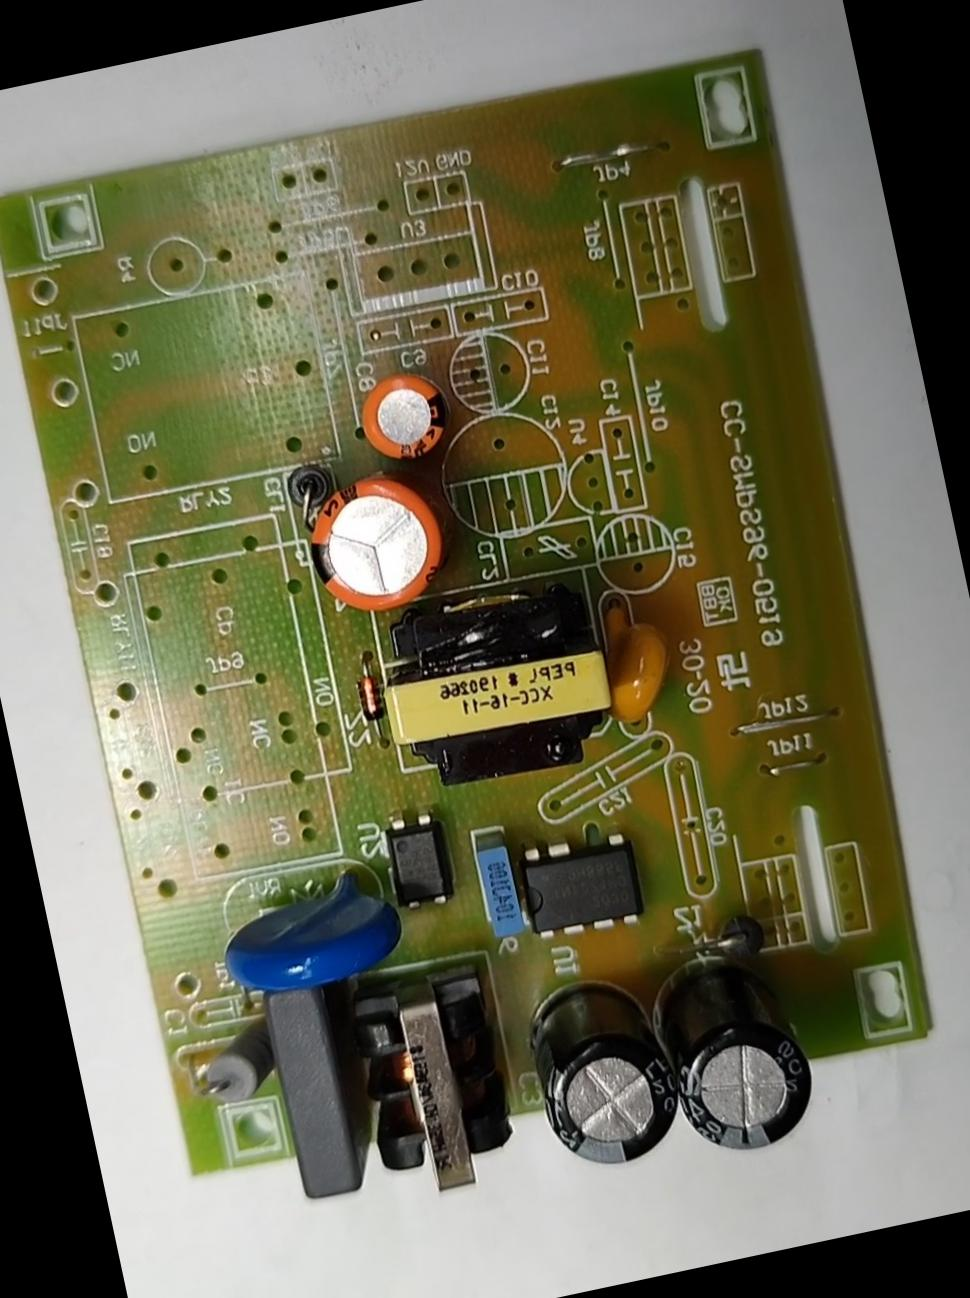Cap1: (294, 459, 450, 623)
Cap2: (348, 357, 461, 472)
Cap3: (517, 972, 691, 1178)
Cap4: (647, 932, 824, 1165)
MOSFET: (508, 816, 648, 949)
Mov: (204, 849, 407, 1000)
Resistor: (185, 1009, 282, 1114)
Transformer: (362, 562, 631, 800), (341, 970, 523, 1209)
